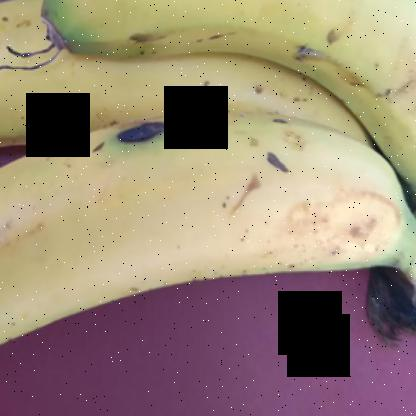ripe: (0, 120, 415, 370), (0, 18, 394, 190), (20, 1, 416, 109)
